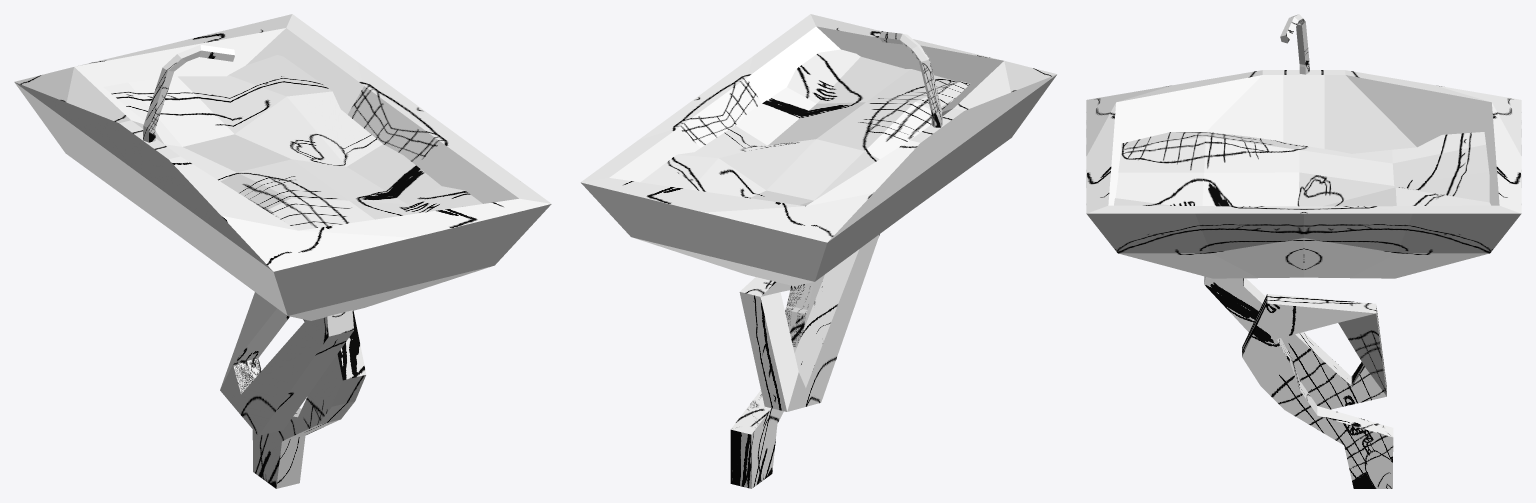
Rendered from Sink.fbx.
The picture shows the model from 3 angles, left to right: view 1: azimuth 30°, elevation 25°; view 2: azimuth 150°, elevation 25°; view 3: azimuth 270°, elevation 25°; orthographic projection. The views are drawn at different scales.
Visible parts, largest first — view 1: Sink, water, Pipes, Straw; view 2: Sink, water, Pipes, Straw; view 3: Sink, water, Pipes, Straw.
Boxes of the visible parts, x1,y1,x2,y2 form: Sink: [14, 14, 551, 320]; water: [104, 55, 482, 230]; Pipes: [220, 292, 366, 488]; Straw: [143, 44, 234, 142]; Sink: [580, 14, 1057, 286]; water: [640, 49, 969, 206]; Pipes: [730, 234, 879, 488]; Straw: [879, 31, 942, 127]; Sink: [1086, 70, 1521, 278]; water: [1114, 132, 1490, 206]; Pipes: [1204, 276, 1393, 488]; Straw: [1280, 14, 1309, 74].
Bounding box in the file's own units: 200 × 341 × 323.
